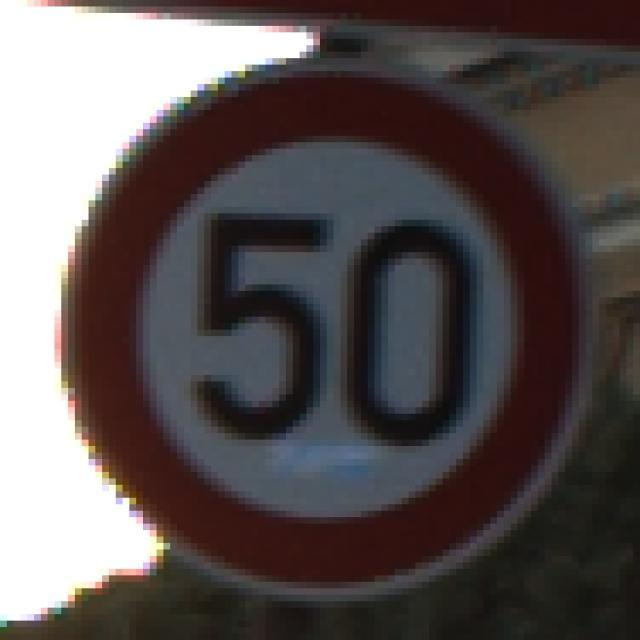speed limit 50: (60, 63, 589, 587)
